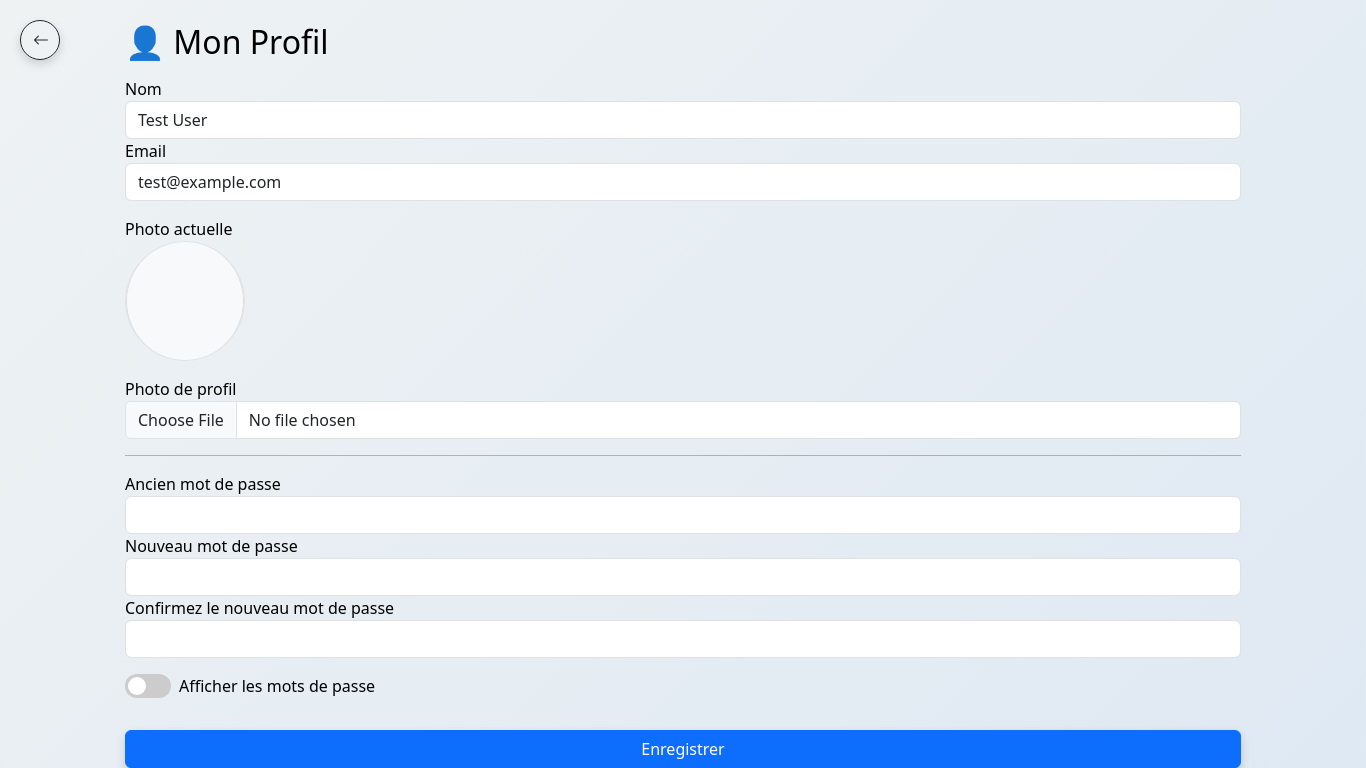
Scenario: Profil Component › appelle axios.patch et setUser avec succès
Click the button "Enregistrer". click: (683,749)
box: [125,730,1241,767]
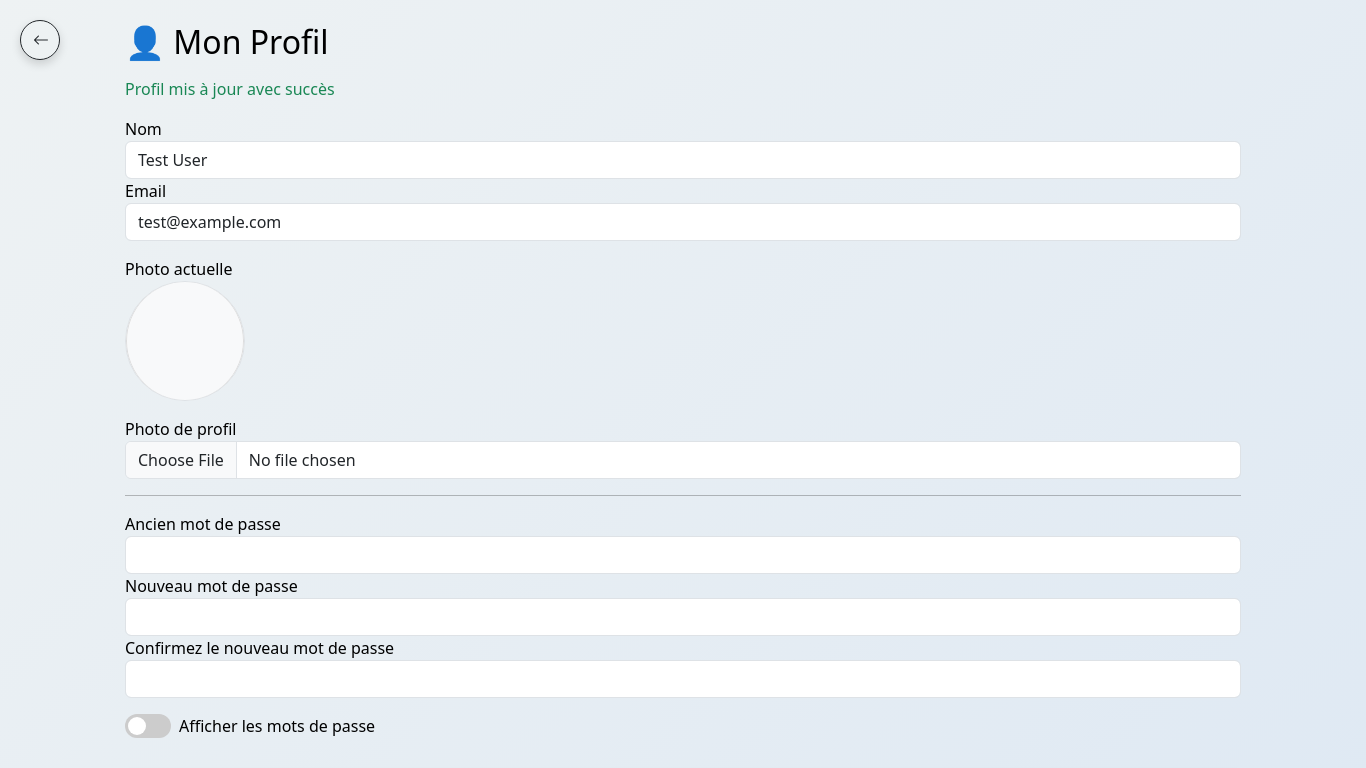
Expected: the text "Profil mis à jour avec succès" is shown, [125,78,335,100]
